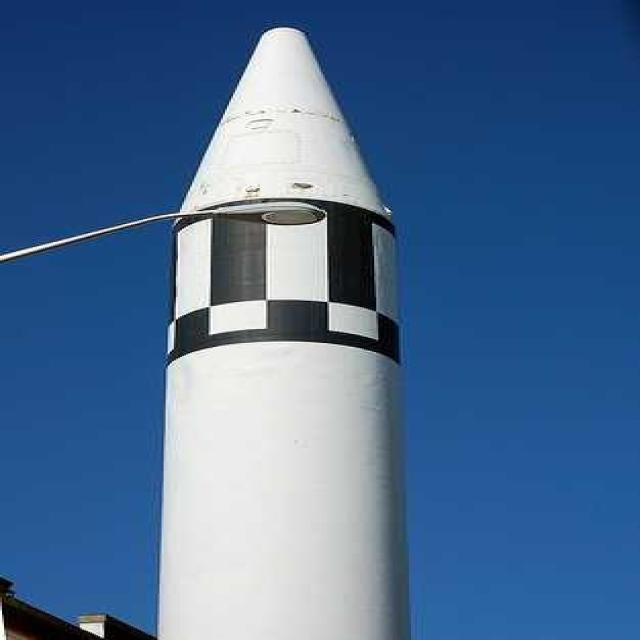missile: (156, 20, 412, 640)
